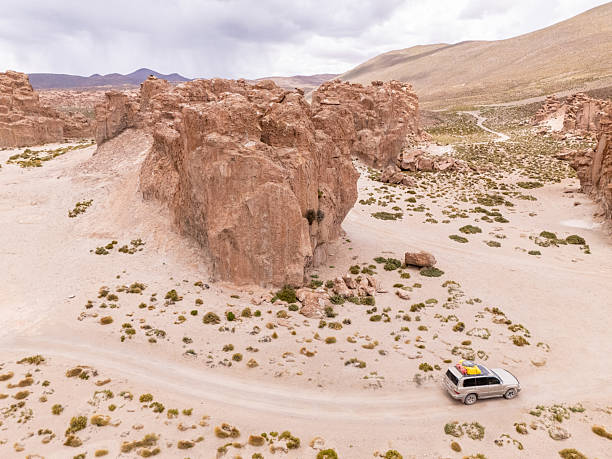human_footprint: (68, 344, 471, 432), (80, 330, 441, 398)
